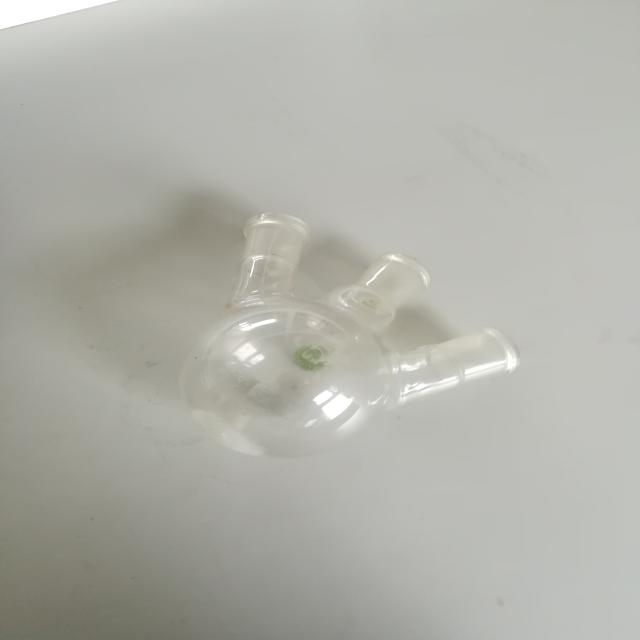Round_Bottom_Flask_Borosilicate_Glass_3_Neck: (132, 189, 542, 501)
